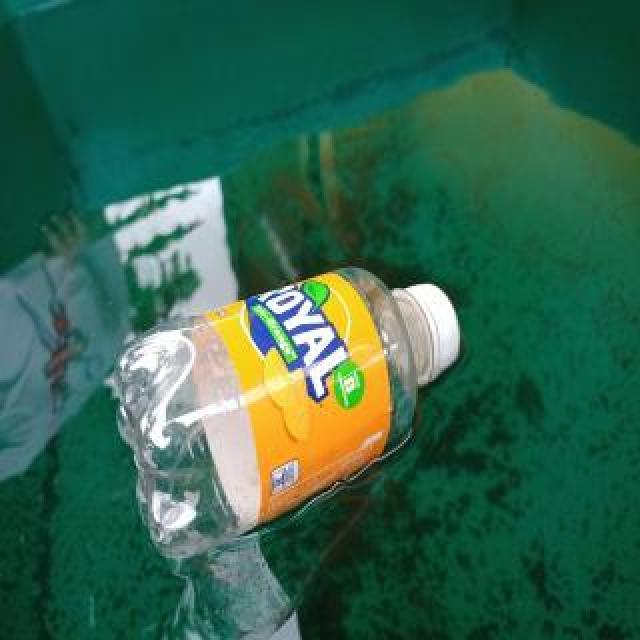bottle: (108, 261, 462, 561)
